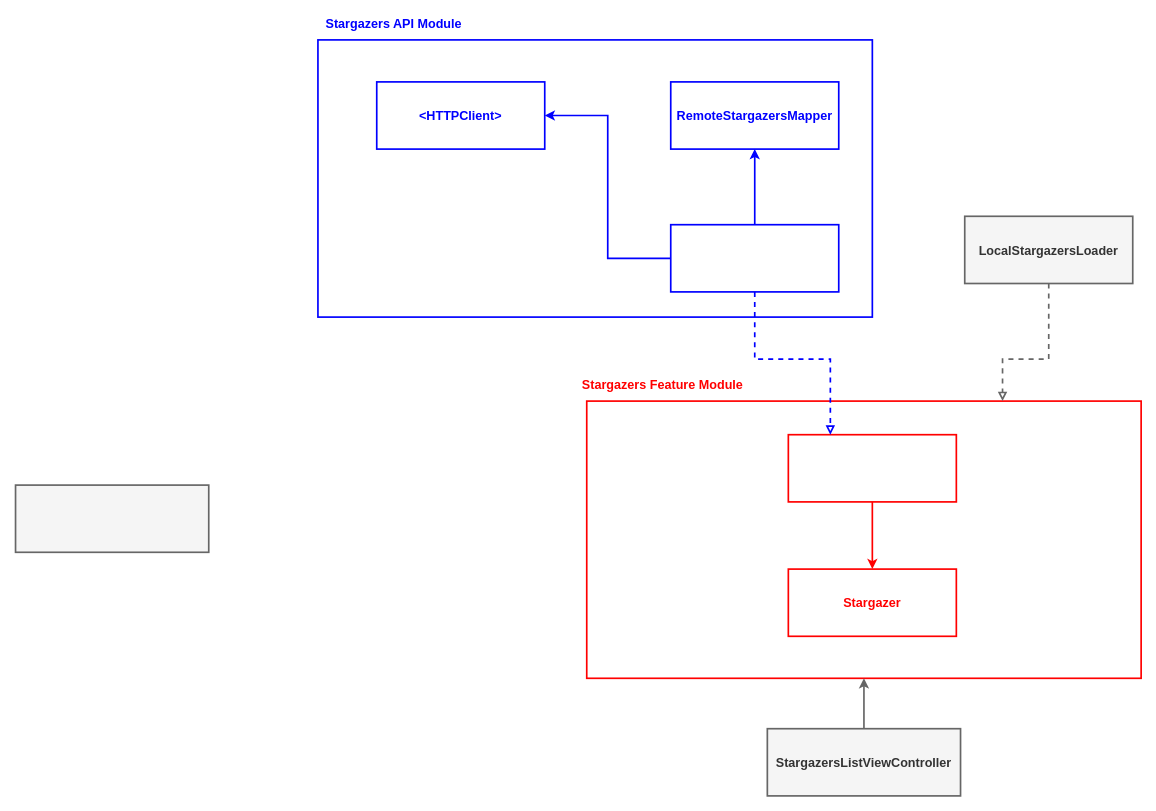
Image size: 1156x811. Some labels were removed from this diagram. Each missing label, with the centre of its shape:
"<StargazersLoader>" belongs at [872,467].
"InsertRepoInfoViewController" belongs at [111,518].
"RemoteStargazersLoader" belongs at [754,257].
